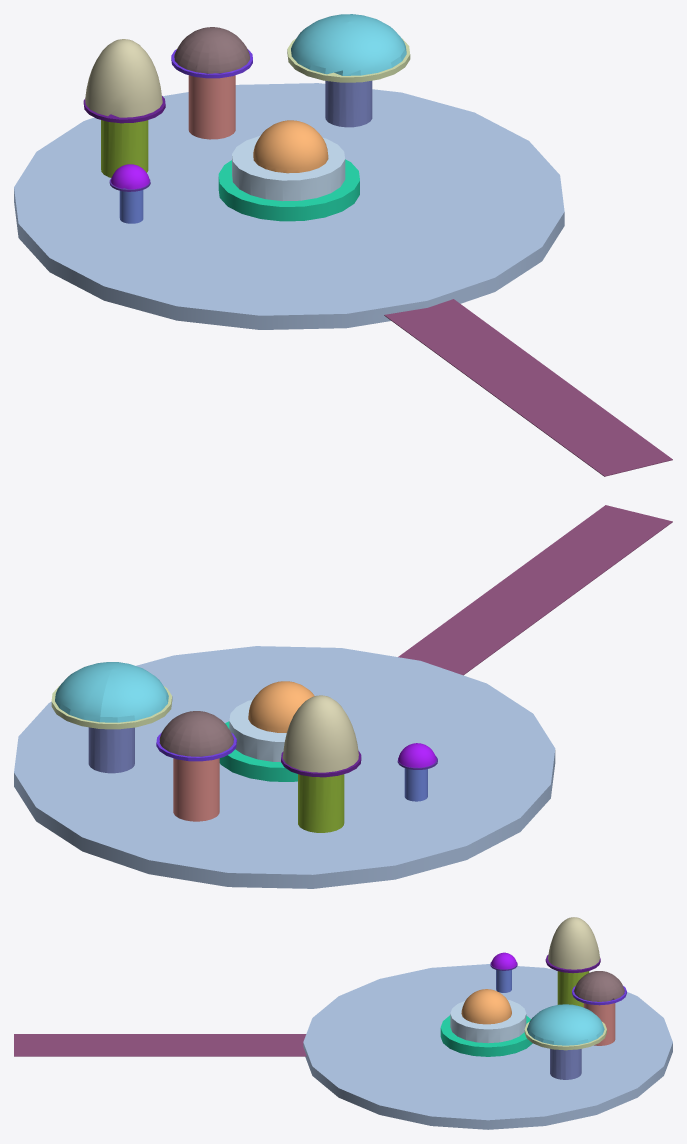
3 renders of one model, top to bottom at view 1: azimuth 30°, elevation 25°; view 2: azimuth 150°, elevation 25°; view 3: azimuth 270°, elevation 25°, orthographic. The views are drawn at different scales.
Visible parts, largest first — view 1: Ground_base_2_lambert1_0, Walk_way_lambert1_0, split_parent_7, Mushroom_top_2_lambert1_0, fire_pit_base_lambert1_0, fire_pit_ground_lambert1_0, fire_pit_grate_lambert1_0, stool_btm1_lambert1_0, Mushroom_top_1_lambert1_0, stool_btm2_lambert1_0, stool_btm3_lambert1_0, stool_top3_lambert1_0 (+2 smaller); view 2: Ground_base_2_lambert1_0, Walk_way_lambert1_0, split_parent_7, Mushroom_top_2_lambert1_0, stool_btm1_lambert1_0, Mushroom_top_1_lambert1_0, stool_btm2_lambert1_0, fire_pit_grate_lambert1_0, stool_btm3_lambert1_0, fire_pit_base_lambert1_0, fire_pit_ground_lambert1_0, stool_top3_lambert1_0 (+2 smaller); view 3: Ground_base_2_lambert1_0, Walk_way_lambert1_0, split_parent_7, Mushroom_top_2_lambert1_0, fire_pit_base_lambert1_0, fire_pit_ground_lambert1_0, fire_pit_grate_lambert1_0, Mushroom_top_1_lambert1_0, stool_btm3_lambert1_0, stool_btm2_lambert1_0, stool_btm1_lambert1_0, stool_top3_lambert1_0 (+2 smaller).
Boxes of the visible parts, box(x1,y1,x2,y2) form: Ground_base_2_lambert1_0: box(14, 83, 564, 329); Walk_way_lambert1_0: box(384, 299, 672, 476); split_parent_7: box(291, 14, 406, 75); Mushroom_top_2_lambert1_0: box(85, 39, 162, 117); fire_pit_base_lambert1_0: box(232, 135, 345, 201); fire_pit_ground_lambert1_0: box(218, 159, 359, 221); fire_pit_grate_lambert1_0: box(253, 120, 328, 173); stool_btm1_lambert1_0: box(188, 75, 235, 139); Mushroom_top_1_lambert1_0: box(174, 27, 249, 73); stool_btm2_lambert1_0: box(101, 120, 148, 177); stool_btm3_lambert1_0: box(325, 80, 372, 127); stool_top3_lambert1_0: box(287, 38, 410, 82); Ground_base_2_lambert1_0: box(14, 646, 555, 888); Walk_way_lambert1_0: box(398, 505, 672, 675); split_parent_7: box(55, 662, 168, 722); Mushroom_top_2_lambert1_0: box(282, 695, 358, 772); stool_btm1_lambert1_0: box(173, 758, 219, 821); Mushroom_top_1_lambert1_0: box(159, 711, 233, 756); stool_btm2_lambert1_0: box(298, 774, 344, 832); fire_pit_grate_lambert1_0: box(248, 681, 314, 732); stool_btm3_lambert1_0: box(88, 727, 134, 773); fire_pit_base_lambert1_0: box(229, 699, 286, 762); fire_pit_ground_lambert1_0: box(219, 721, 297, 781); stool_top3_lambert1_0: box(51, 685, 172, 729); Ground_base_2_lambert1_0: box(303, 964, 672, 1129); Walk_way_lambert1_0: box(14, 1034, 306, 1056); split_parent_7: box(527, 1004, 604, 1045); Mushroom_top_2_lambert1_0: box(548, 917, 599, 969); fire_pit_base_lambert1_0: box(450, 999, 526, 1043); fire_pit_ground_lambert1_0: box(440, 1015, 532, 1056); fire_pit_grate_lambert1_0: box(461, 989, 511, 1024); Mushroom_top_1_lambert1_0: box(574, 971, 624, 1001); stool_btm3_lambert1_0: box(550, 1049, 581, 1079); stool_btm2_lambert1_0: box(557, 971, 589, 1007); stool_btm1_lambert1_0: box(583, 1003, 615, 1045); stool_top3_lambert1_0: box(524, 1021, 606, 1050).
Bounding box in the file's own units: 0.561 × 0.1683 × 1.
